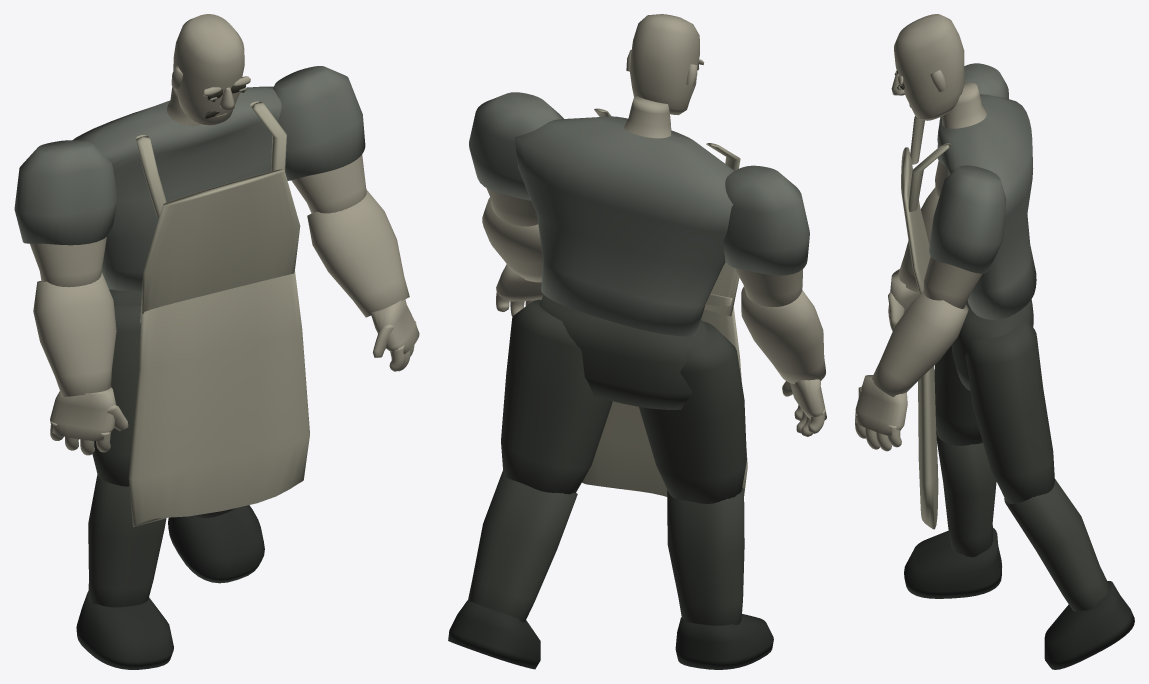
Rendered from enemy-lab-brute.glb.
3 renders of one model, left to right at view 1: azimuth 30°, elevation 25°; view 2: azimuth 150°, elevation 25°; view 3: azimuth 270°, elevation 25°, orthographic. The views are drawn at different scales.
Parts seen in each view (by area): view 1: Apron skirt, Chest, Apron bib, Short sleeve_L, Short sleeve_R, Forearm anatomy_L, Forearm anatomy_R, Trouser shin_L, Anatomical head, Shoe_R, Shoe_L, Trouser thigh_L (+6 smaller); view 2: Chest, Trouser thigh_R, Trouser thigh_L, Trouser shin_R, Waist, Trouser shin_L, Short sleeve_L, Apron skirt, Short sleeve_R, Anatomical head, Forearm anatomy_L, Shoe_L (+8 smaller); view 3: Trouser thigh_R, Chest, Short sleeve_R, Trouser shin_R, Anatomical head, Forearm anatomy_R, Trouser shin_L, Shoe_L, Shoe_R, Trouser thigh_L, Apron skirt, Waist (+9 smaller).
Part boxes in pixels (<box>): Apron skirt: <box>128,271,309,527</box>; Chest: <box>73,86,281,291</box>; Apron bib: <box>140,169,300,322</box>; Short sleeve_L: <box>14,140,117,245</box>; Short sleeve_R: <box>273,66,365,180</box>; Forearm anatomy_L: <box>33,273,116,396</box>; Forearm anatomy_R: <box>307,189,409,317</box>; Trouser shin_L: <box>88,474,166,607</box>; Anatomical head: <box>173,14,244,125</box>; Shoe_R: <box>168,505,264,583</box>; Shoe_L: <box>76,591,173,669</box>; Trouser thigh_L: <box>92,305,140,486</box>; Chest: <box>514,116,734,336</box>; Trouser thigh_R: <box>501,299,612,494</box>; Trouser thigh_L: <box>639,321,746,504</box>; Trouser shin_R: <box>468,471,577,622</box>; Waist: <box>539,295,708,409</box>; Trouser shin_L: <box>667,487,744,625</box>; Short sleeve_L: <box>723,165,809,275</box>; Apron skirt: <box>582,294,747,496</box>; Short sleeve_R: <box>469,92,563,200</box>; Anatomical head: <box>629,14,699,114</box>; Forearm anatomy_L: <box>741,287,825,384</box>; Shoe_L: <box>675,614,773,669</box>; Trouser thigh_R: <box>965,319,1054,504</box>; Chest: <box>937,94,1036,319</box>; Short sleeve_R: <box>929,165,1006,273</box>; Trouser shin_R: <box>1004,479,1109,611</box>; Anatomical head: <box>894,14,964,120</box>; Forearm anatomy_R: <box>872,291,968,396</box>; Trouser shin_L: <box>936,429,996,557</box>; Shoe_L: <box>904,528,1002,598</box>; Shoe_R: <box>1044,581,1134,669</box>; Trouser thigh_L: <box>934,345,982,445</box>; Apron skirt: <box>918,366,938,529</box>; Waist: <box>951,299,1033,390</box>.
Size of the model in its own units: 1 by 1.69 by 0.71.
